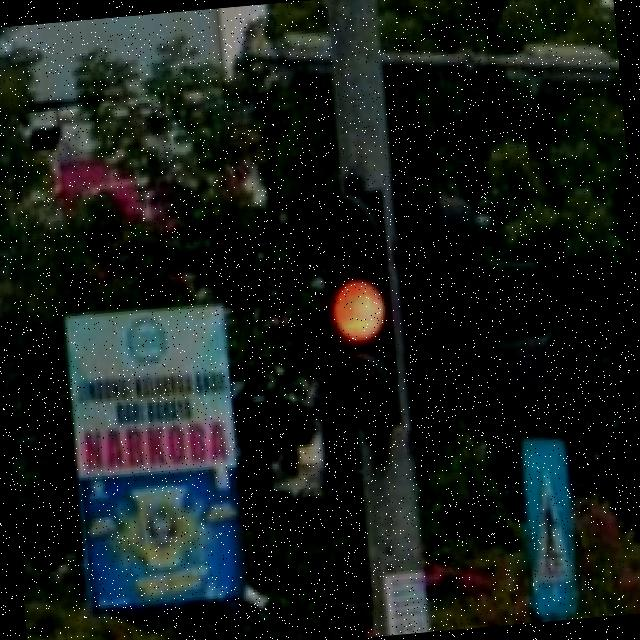Zolte swiatlo: (305, 189, 403, 434)
